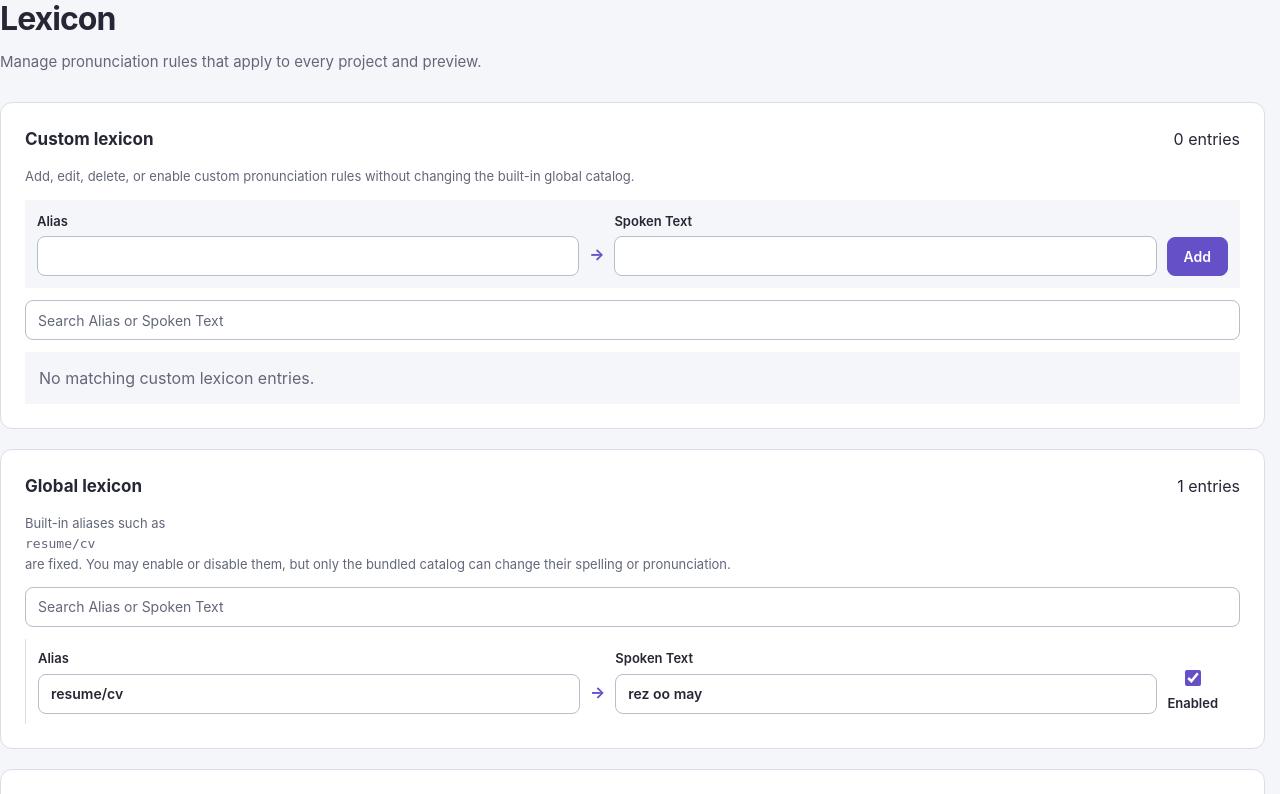
Test: Lexicon settings › validates custom aliases before saving
Click the button "Add" at (1197, 257), box [1166,237,1228,276]
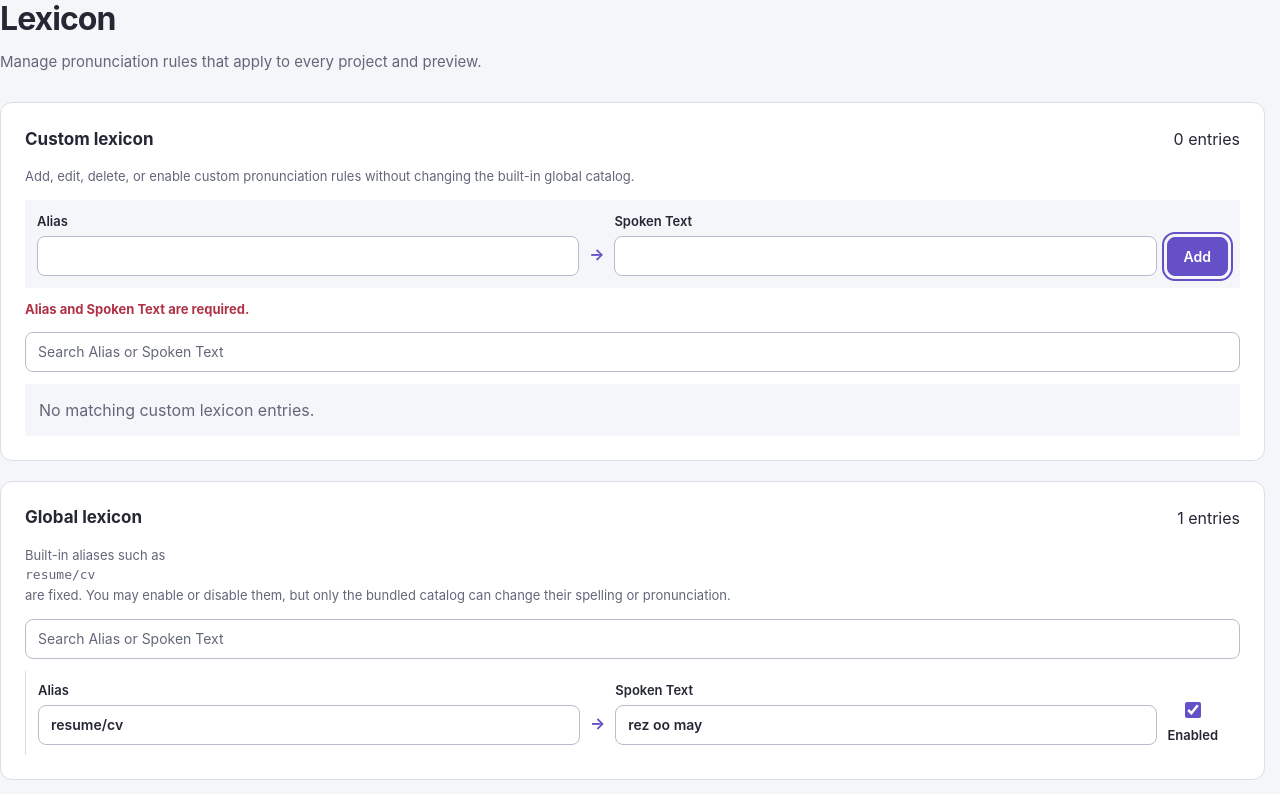
Expected: the message shows "Alias and Spoken Text are required", [25,301,249,317]
Type "resume/cv/extra" into the 1st field labelled "Alias" at (308, 256), box [37,236,579,276]
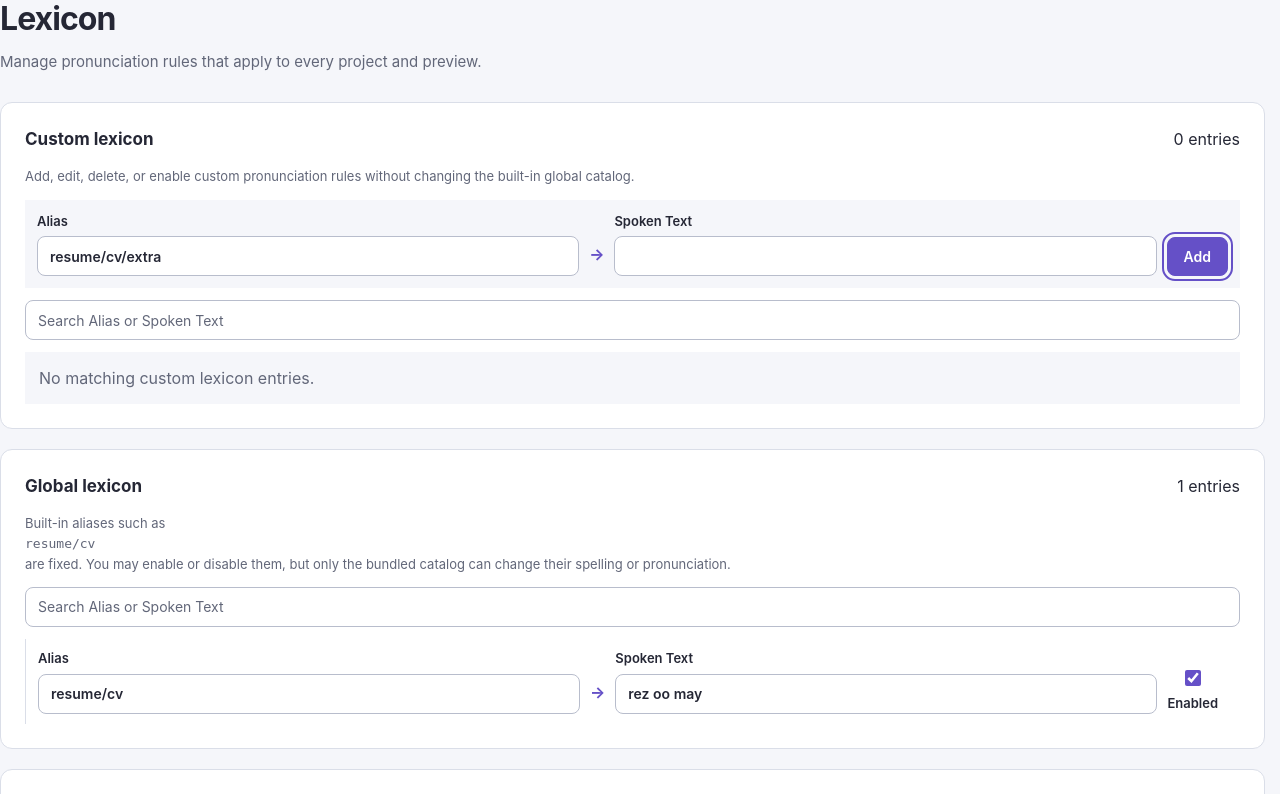
Type "invalid" into the 1st field labelled "Spoken Text" at (885, 256), box [614,236,1156,276]
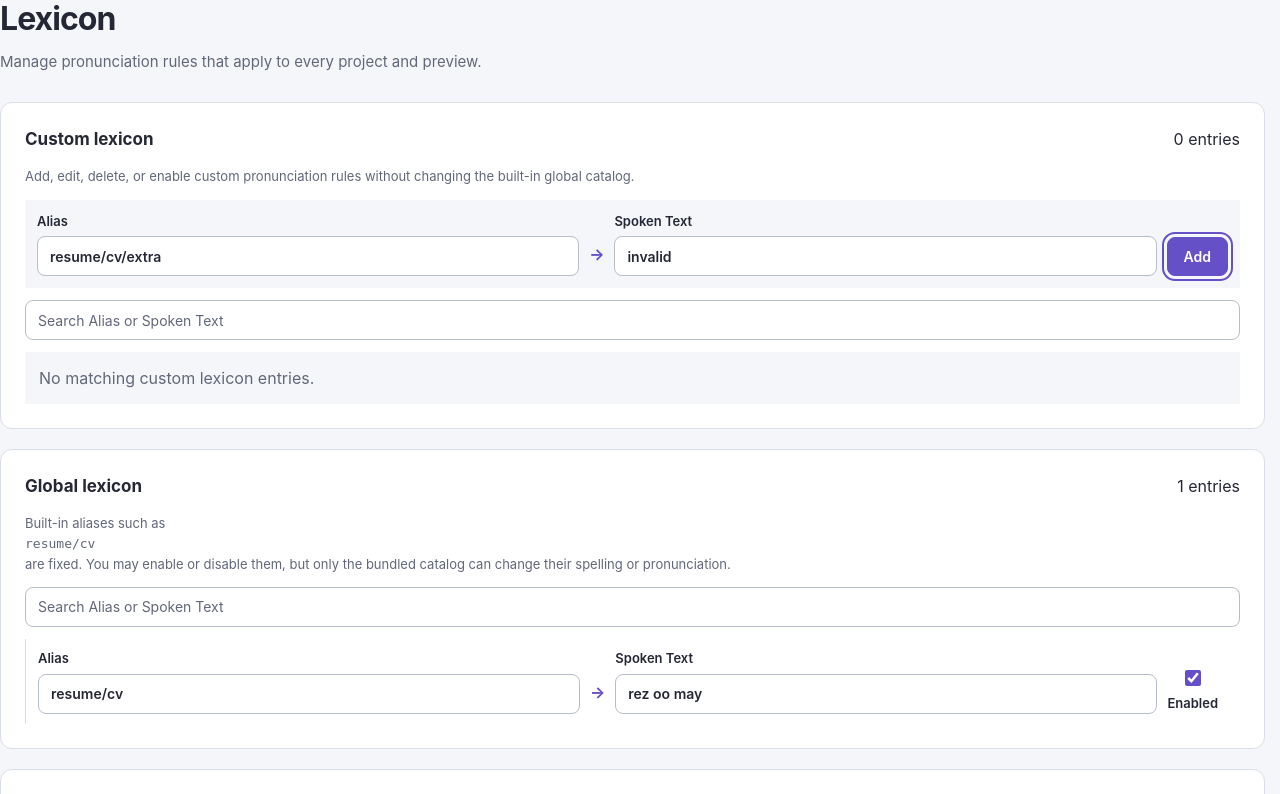
Click the button "Add" at (1197, 257), box [1166,237,1228,276]
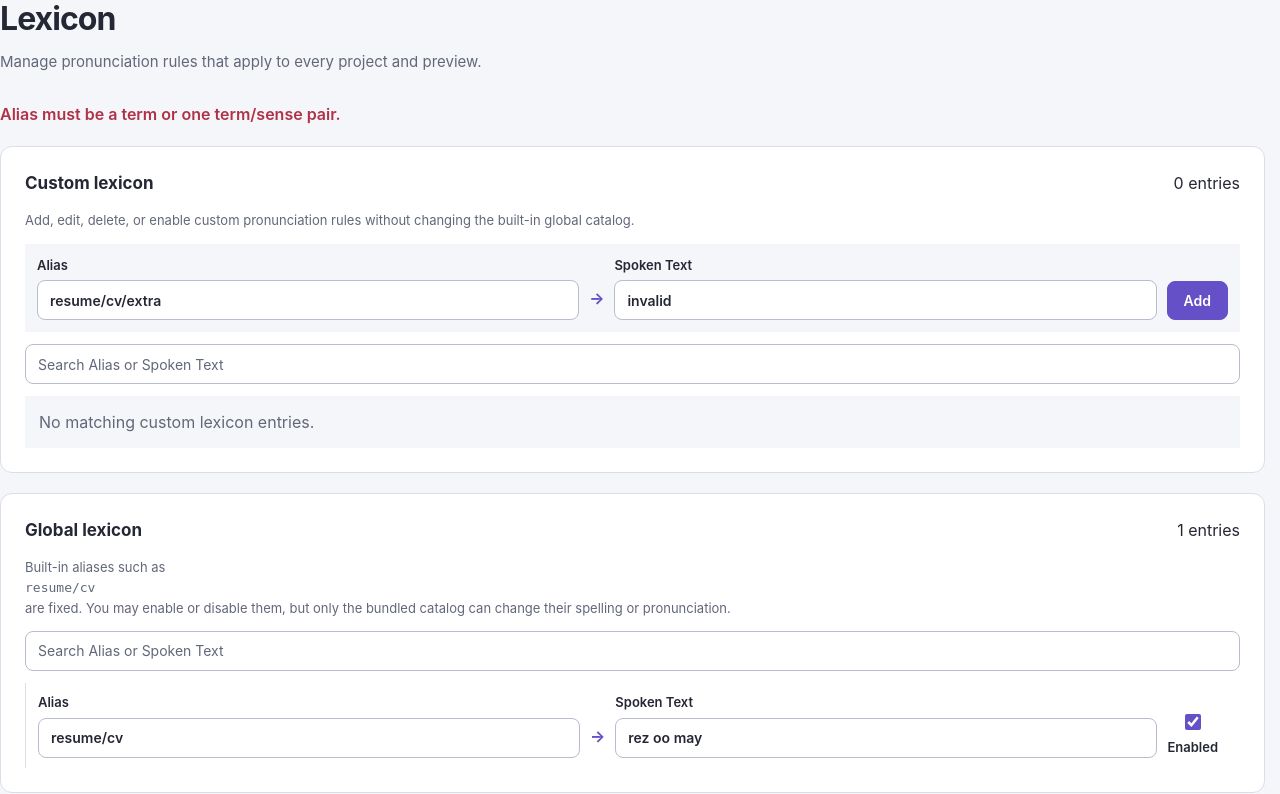
Expected: the message shows "one term/sense pair", [0,104,341,124]
